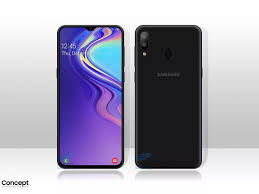samsung: (52, 18, 129, 173), (130, 22, 205, 170)
